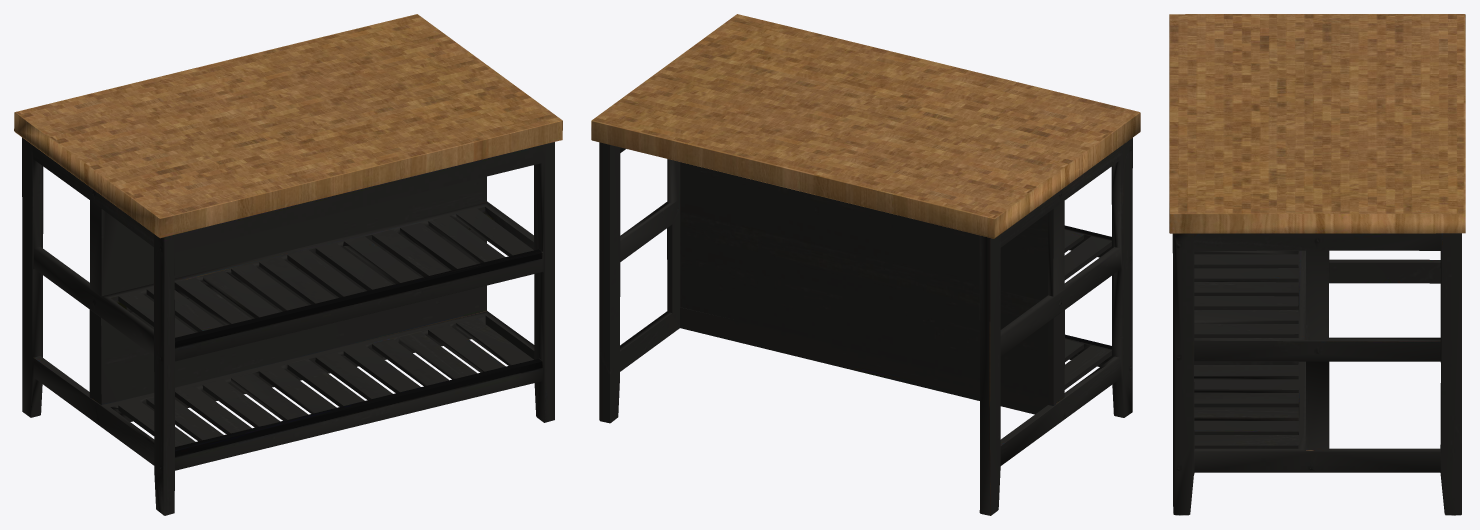
3 renders of one model, left to right at view 1: azimuth 30°, elevation 25°; view 2: azimuth 150°, elevation 25°; view 3: azimuth 270°, elevation 25°, orthographic.
Parts seen in each view (by area): view 1: ProcessedMeshNode; view 2: ProcessedMeshNode; view 3: ProcessedMeshNode.
Part boxes in pixels (<box>): ProcessedMeshNode: <box>14,14,562,515</box>; ProcessedMeshNode: <box>591,14,1140,515</box>; ProcessedMeshNode: <box>1169,14,1465,515</box>.
Size of the model in its own units: 1.26 by 0.9005 by 0.7902.
Materials: 1 (1 with a texture image).
